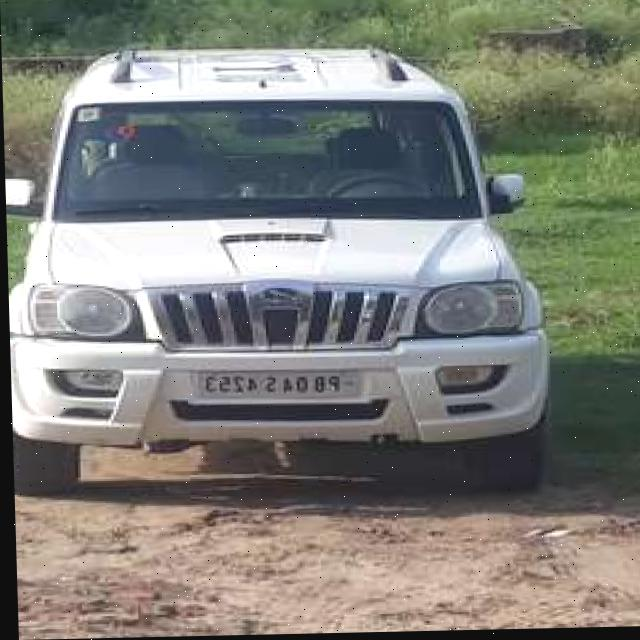plate: (192, 369, 362, 405)
